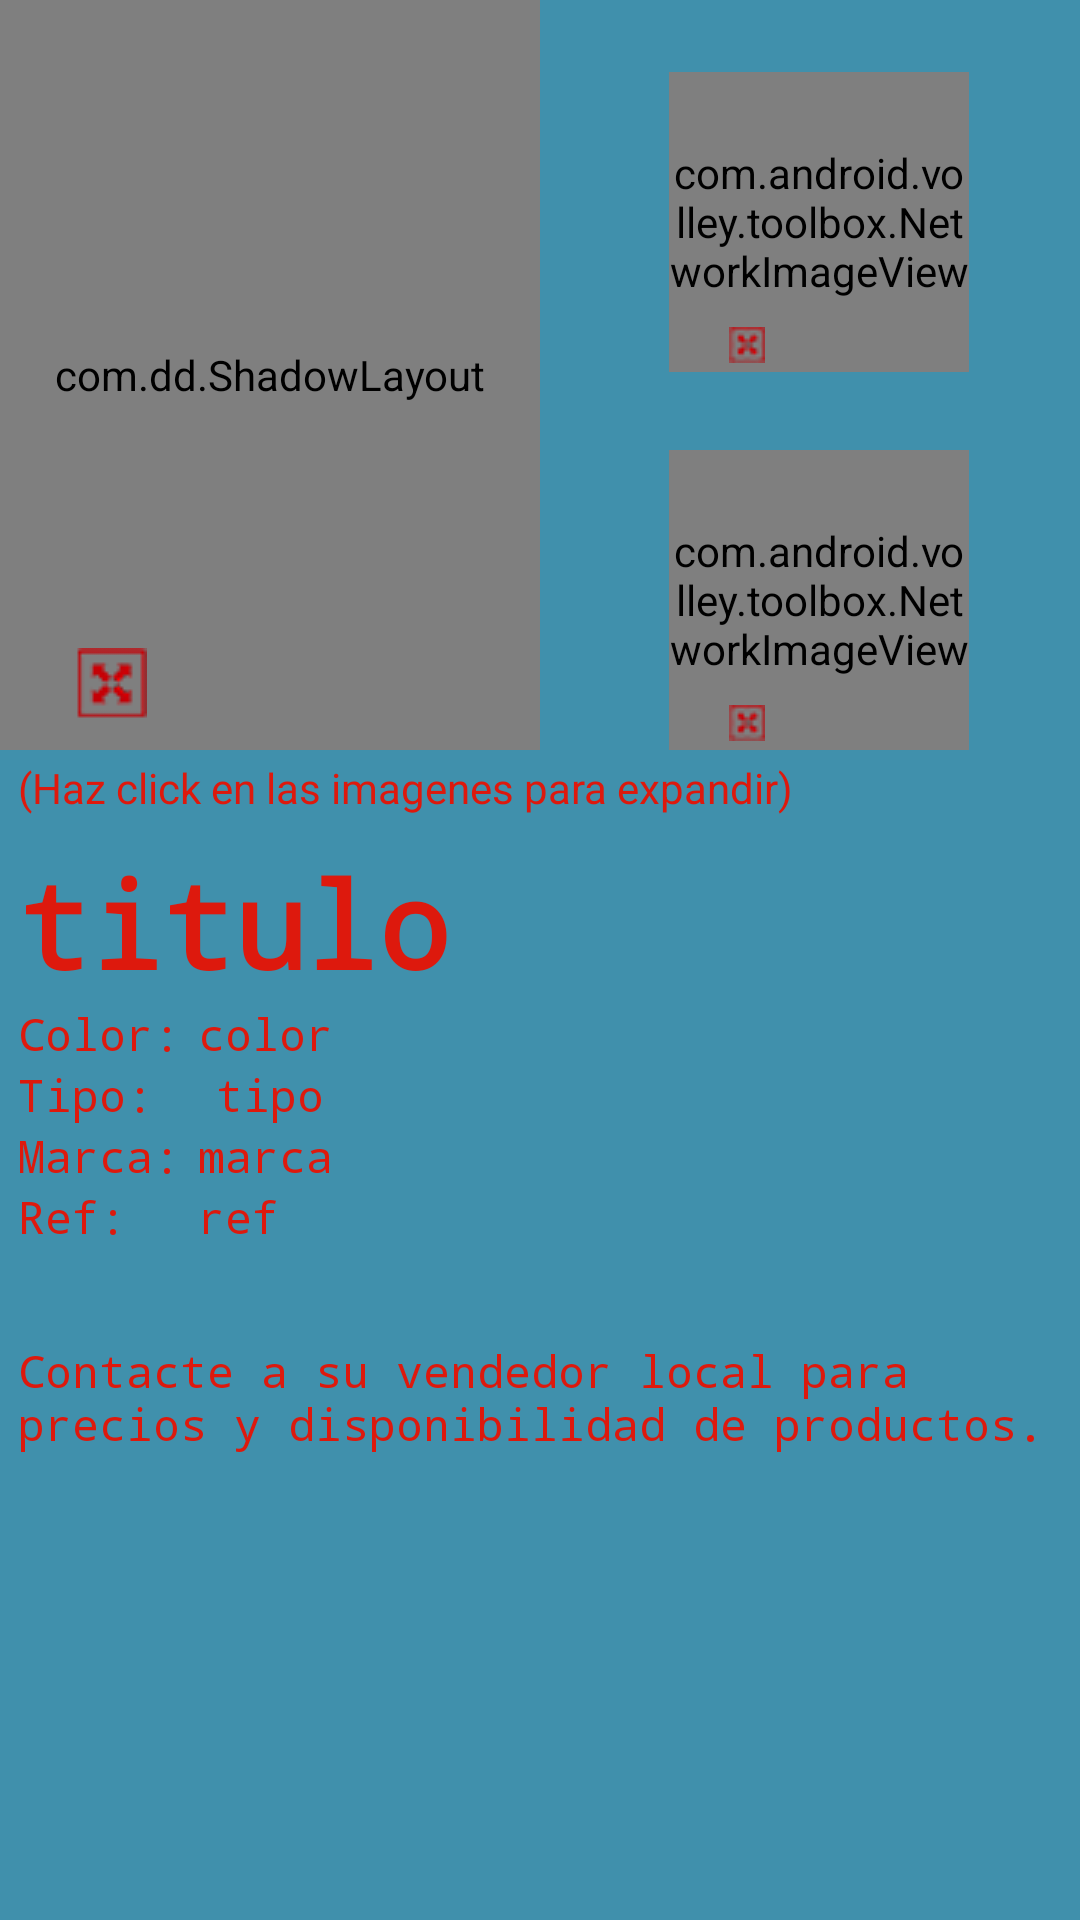

Point at icon controls on the screen. Image size 1080px x 1920px, points as point (x, y).
fullscrn: point (112, 683)
fullscrn smallimg: point (747, 345), point (747, 723)
